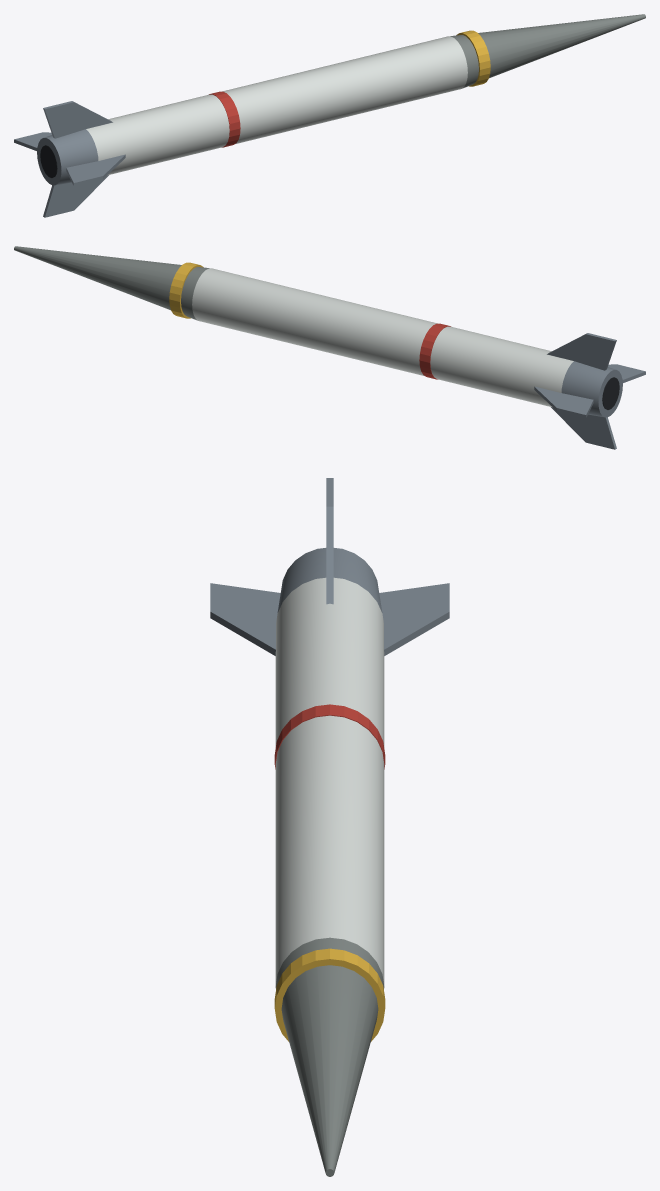
The model's file is irn_khalij_fars.glb.
3 renders of one model, top to bottom at view 1: azimuth 30°, elevation 25°; view 2: azimuth 150°, elevation 25°; view 3: azimuth 270°, elevation 25°, orthographic. The views are drawn at different scales.
Parts seen in each view (by area): view 1: missile_body, titanium, seeker, marking_yellow, hazard_red, rubber; view 2: missile_body, titanium, seeker, marking_yellow, hazard_red, rubber; view 3: missile_body, seeker, titanium, marking_yellow, hazard_red.
Part boxes in pixels (box(x1,y1,x2,y2)): missile_body: box(86, 36, 467, 175); titanium: box(14, 101, 125, 217); seeker: box(450, 14, 645, 88); marking_yellow: box(456, 30, 490, 86); hazard_red: box(209, 91, 240, 147); rubber: box(40, 145, 57, 177); missile_body: box(192, 268, 573, 407); titanium: box(534, 333, 645, 449); seeker: box(14, 246, 209, 320); marking_yellow: box(169, 262, 203, 318); hazard_red: box(419, 323, 450, 379); rubber: box(602, 377, 619, 409); missile_body: box(275, 577, 384, 985); seeker: box(275, 937, 384, 1176); titanium: box(210, 478, 449, 655); marking_yellow: box(274, 948, 385, 1041); hazard_red: box(274, 704, 385, 769).
Bounding box in the file's own units: 10 × 1.72 × 1.72.
